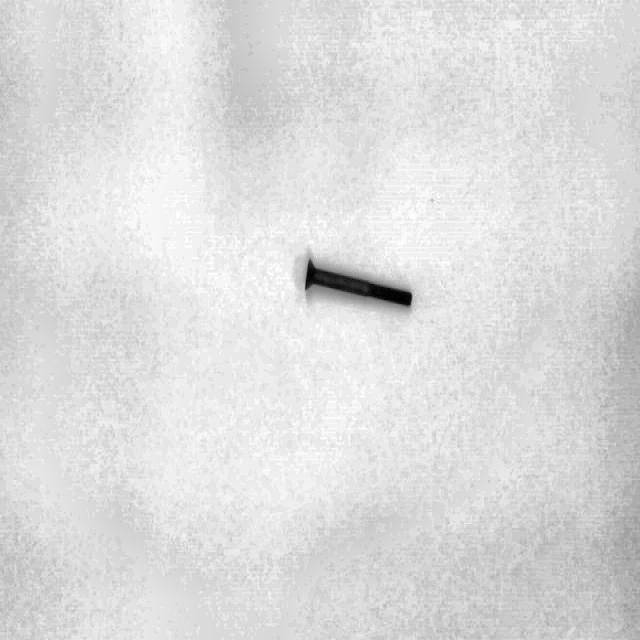Flat head socket screw: (302, 254, 414, 310)
